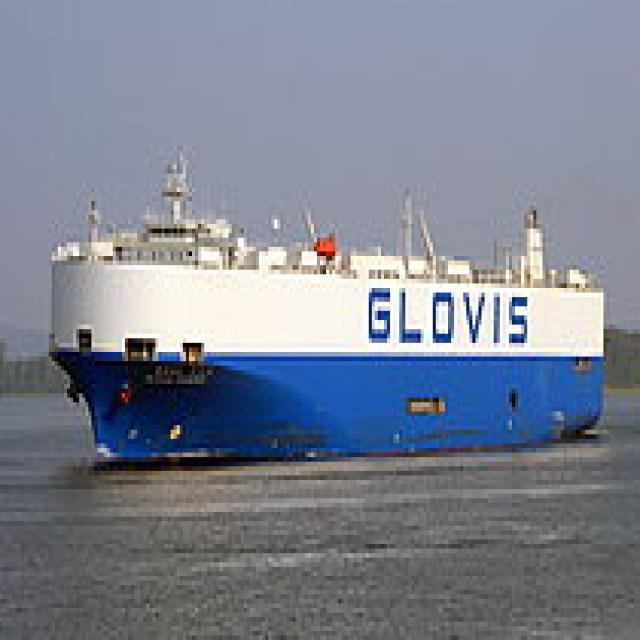Carrier: (39, 137, 606, 466)
